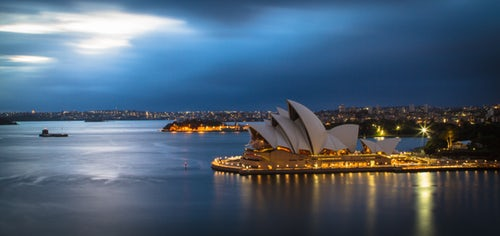opera house: (204, 84, 427, 183)
